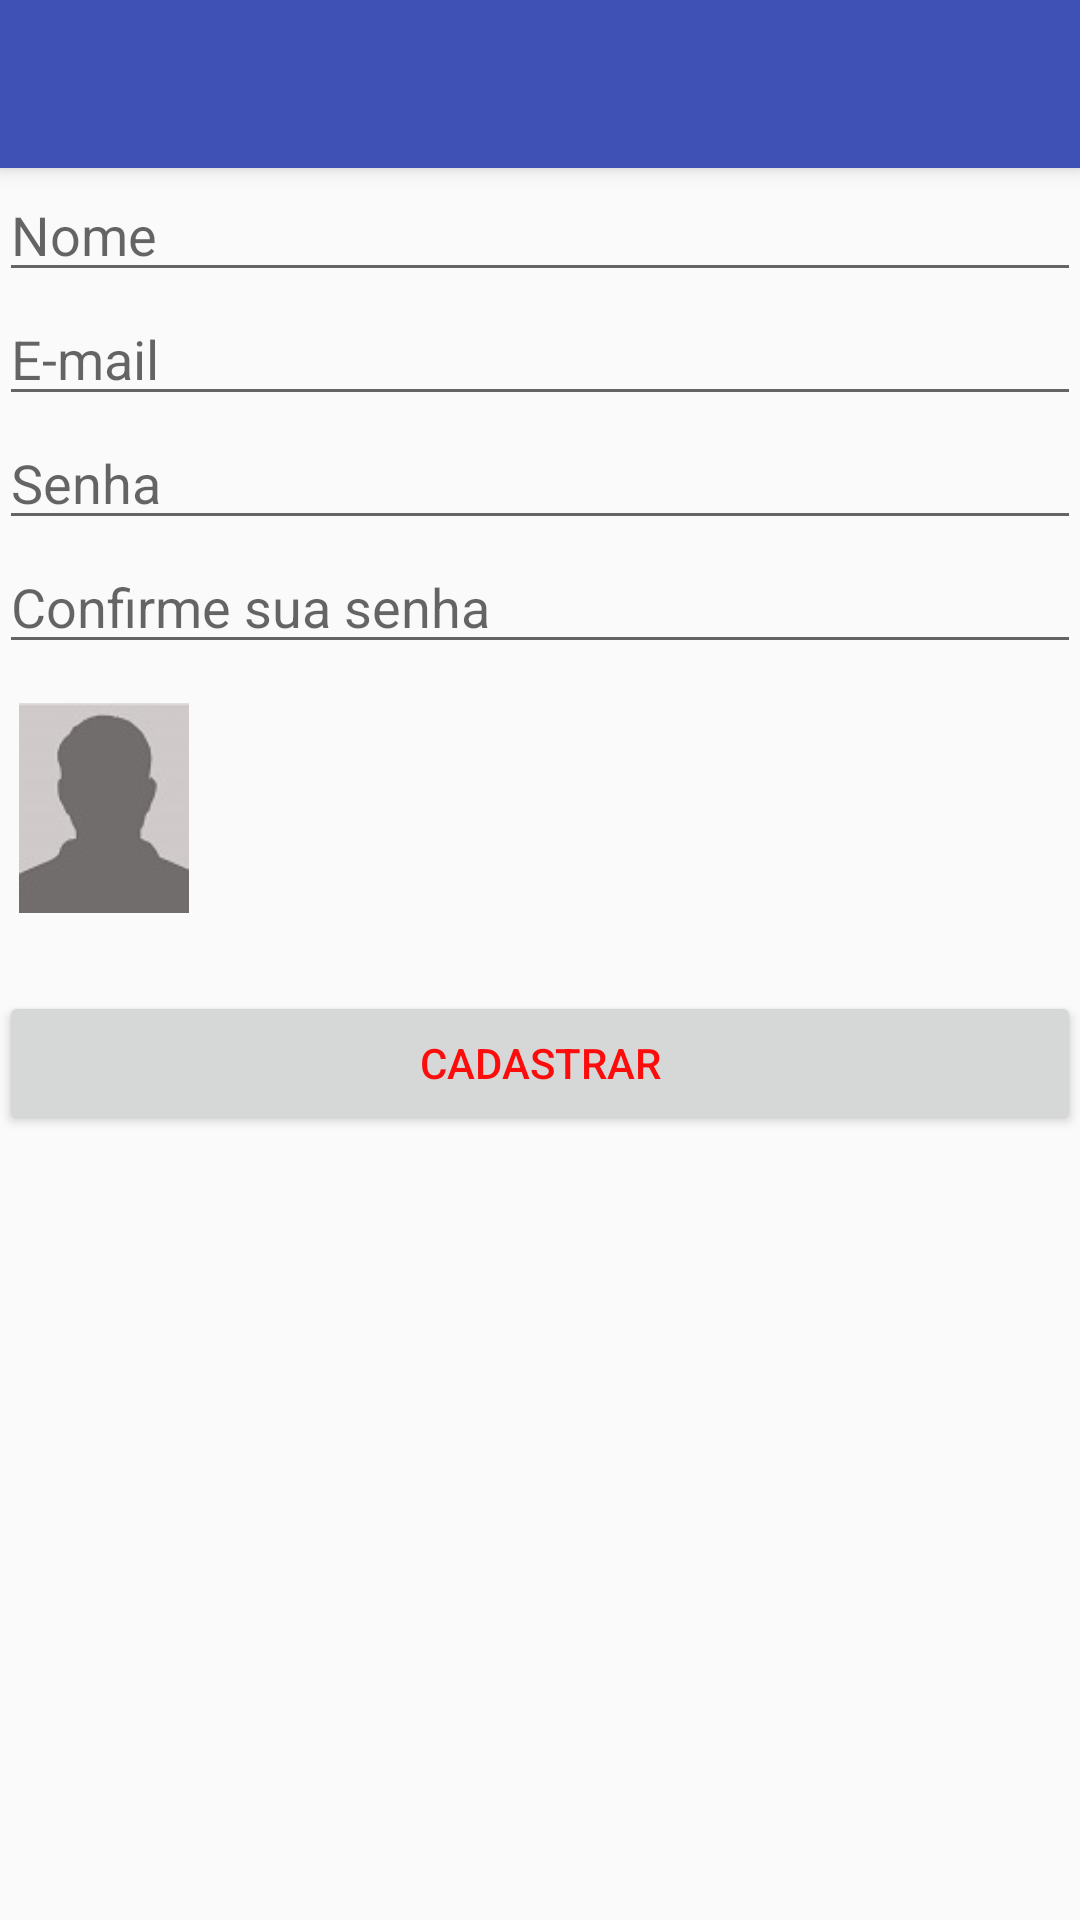

Icons on this 1080px×1920px Android screen, each with the point to tap as (x,y):
no photo: (104,808)
